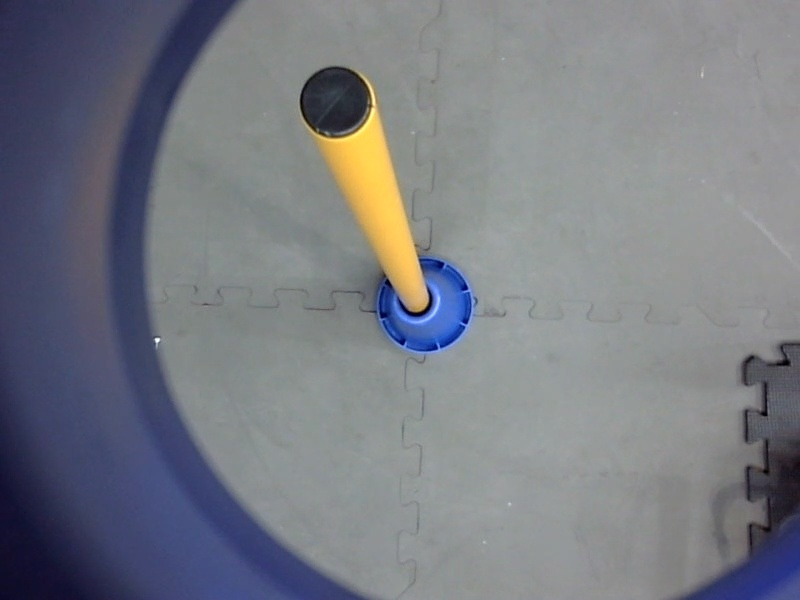tip: (290, 61, 382, 147)
